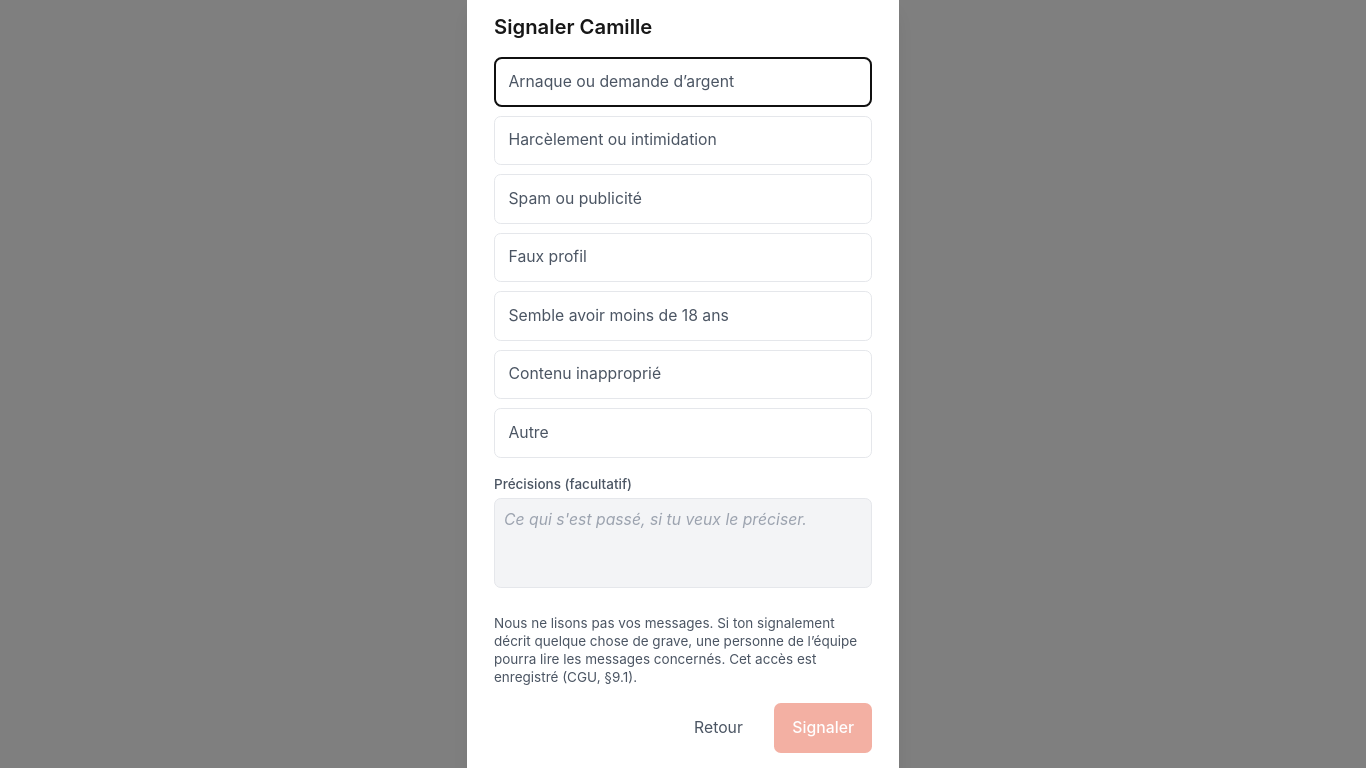
Test: <ReportUserModal /> — arnaques (#369) › pas de ligne de prudence pour un autre motif
Click the button "Faux profil" at (548, 257), box [494,233,872,282]
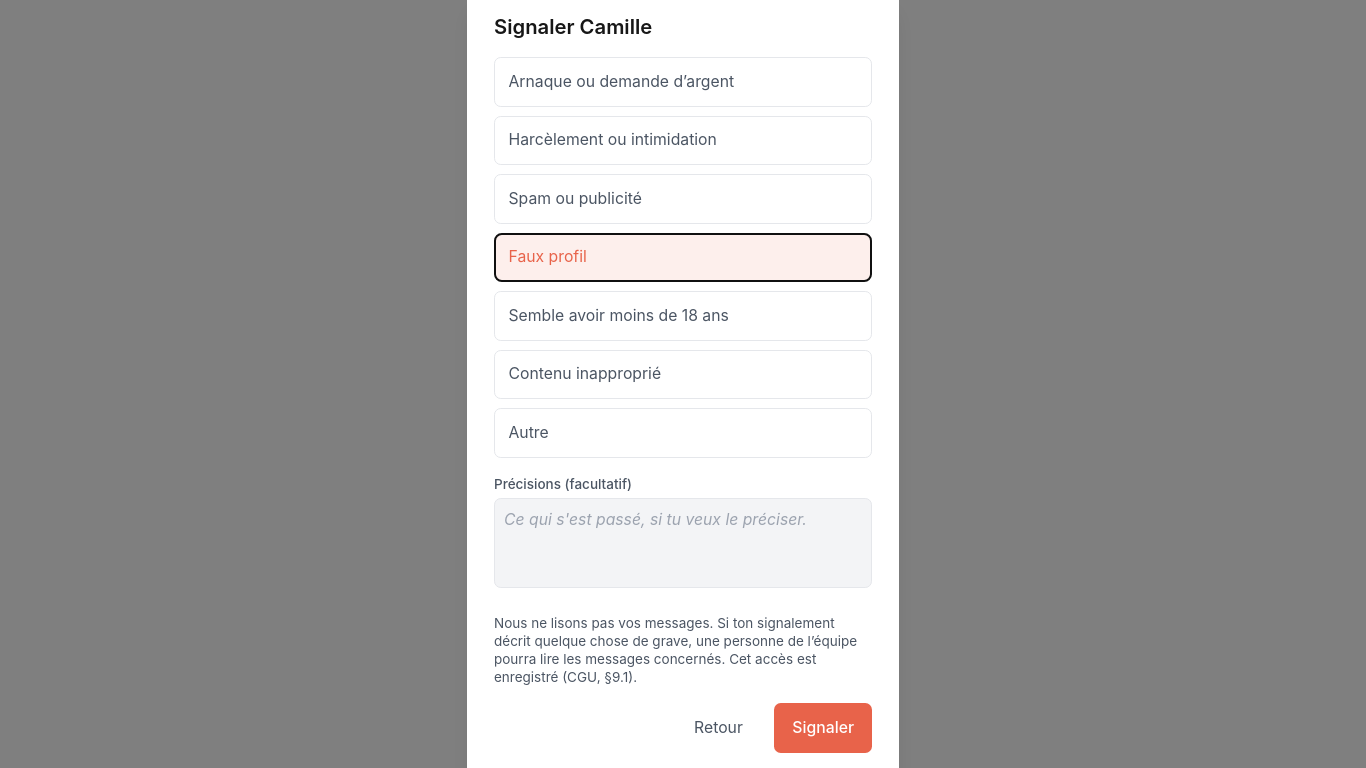
Click the button "Signaler" at (823, 728), box [774,703,872,753]
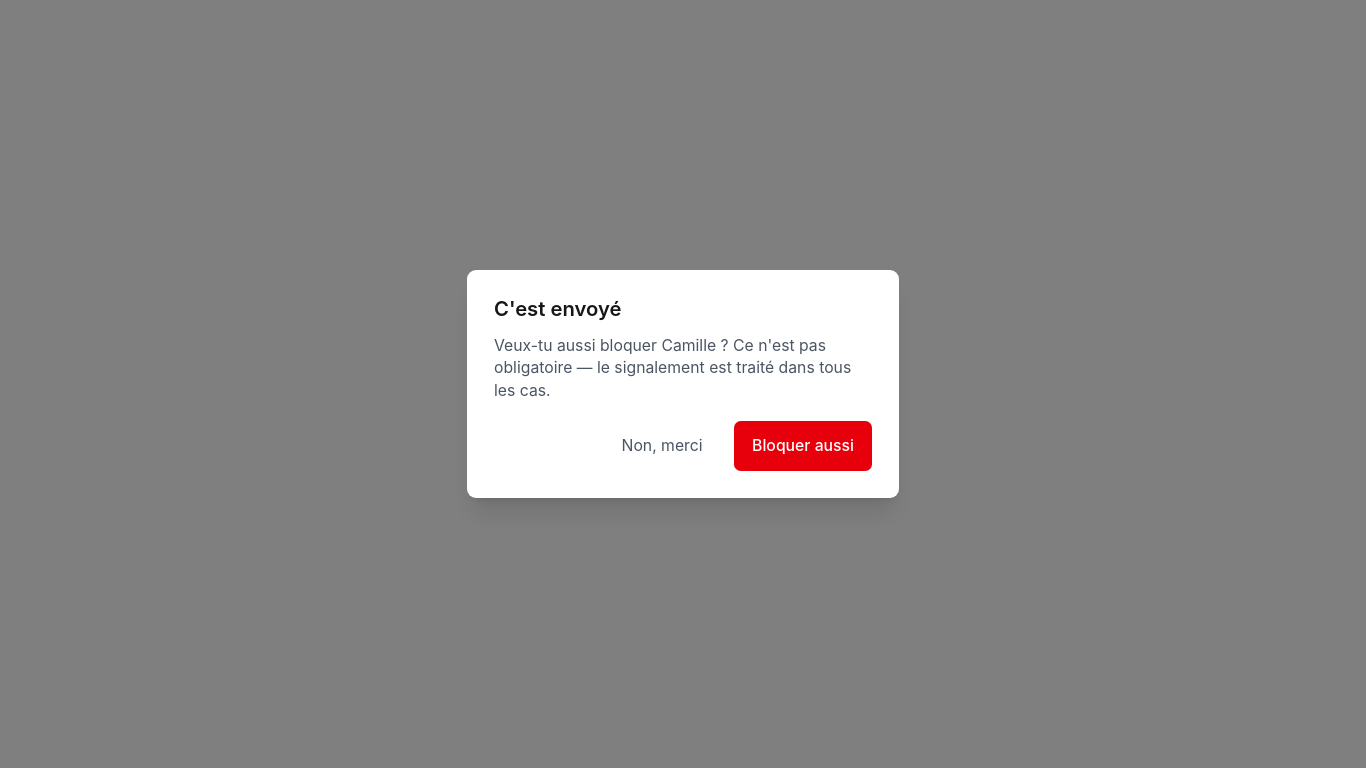
Check: the heading "C'est envoyé" is shown, box [494,296,622,321]
